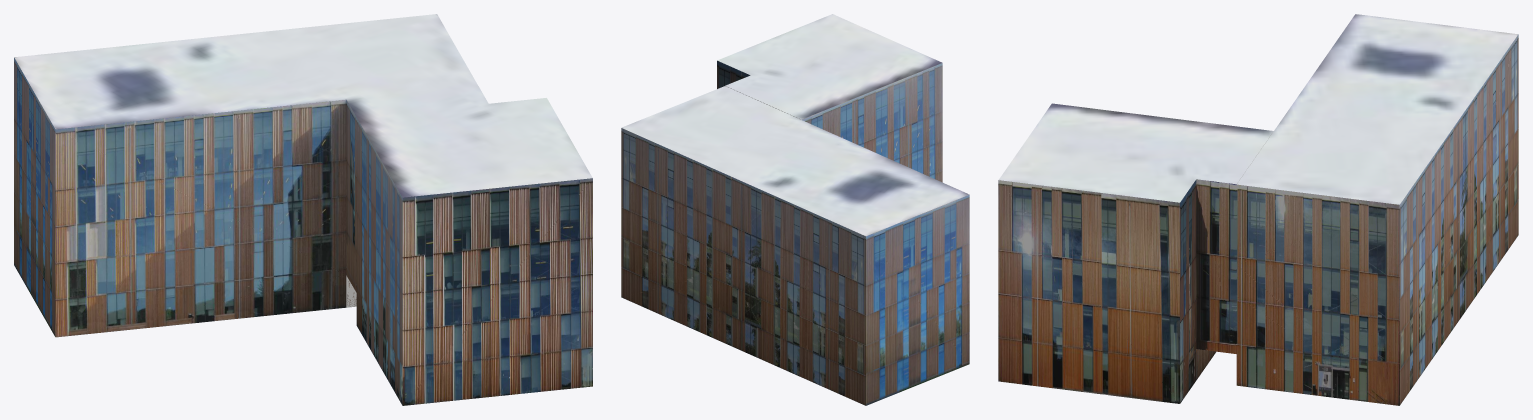
The model's file is designhogskolan.dae.
3 views of the same model, side by side, from view 1: azimuth 30°, elevation 25°; view 2: azimuth 150°, elevation 25°; view 3: azimuth 270°, elevation 25° (orthographic). The views are drawn at different scales.
Parts seen in each view (by area): view 1: SketchUp (×6); view 2: SketchUp (×6); view 3: SketchUp (×7).
Part boxes in pixels (bbox=[...]): SketchUp (×6): bbox=[14, 14, 592, 405]; SketchUp (×6): bbox=[621, 14, 969, 405]; SketchUp (×7): bbox=[998, 14, 1518, 405].
Bounding box in the file's own units: 1283 × 1477 × 631.
14 materials, 13 textured.
